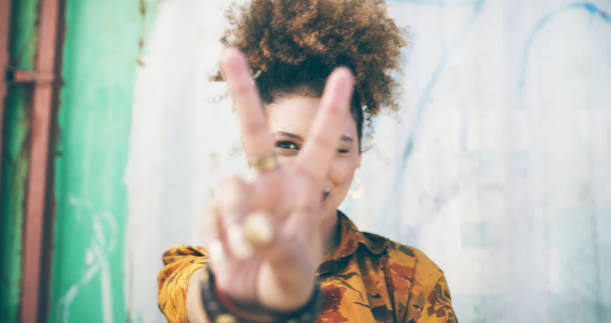peace_sign: (195, 40, 354, 305)
